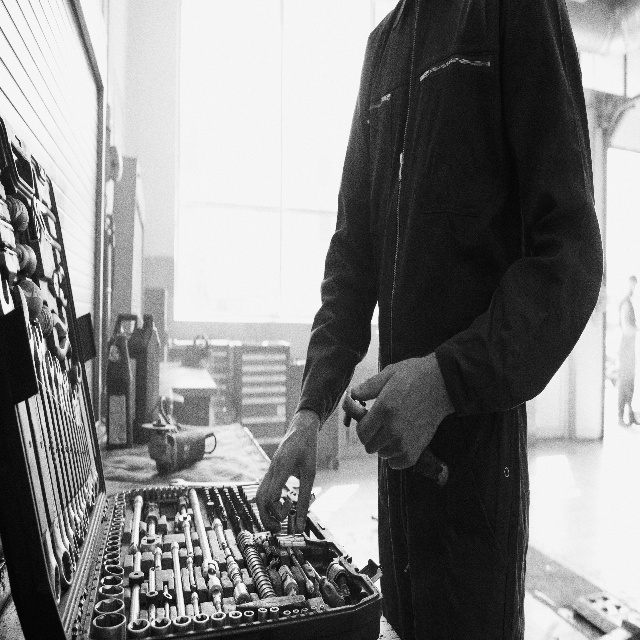Sin_guantes: (350, 356, 442, 470), (255, 414, 319, 534)
